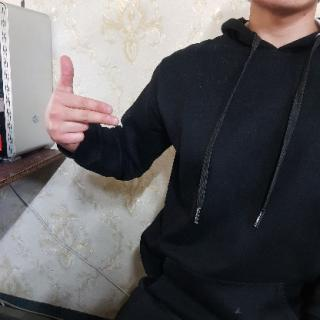GHAYN: (42, 52, 120, 147)
